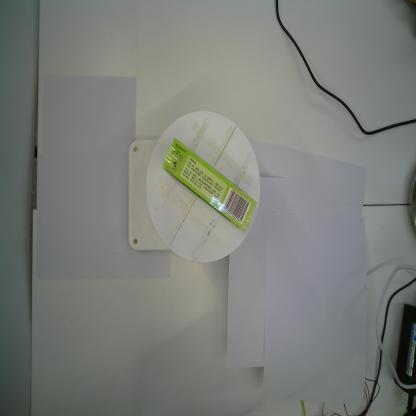Instant Drink: (162, 136, 258, 232)
